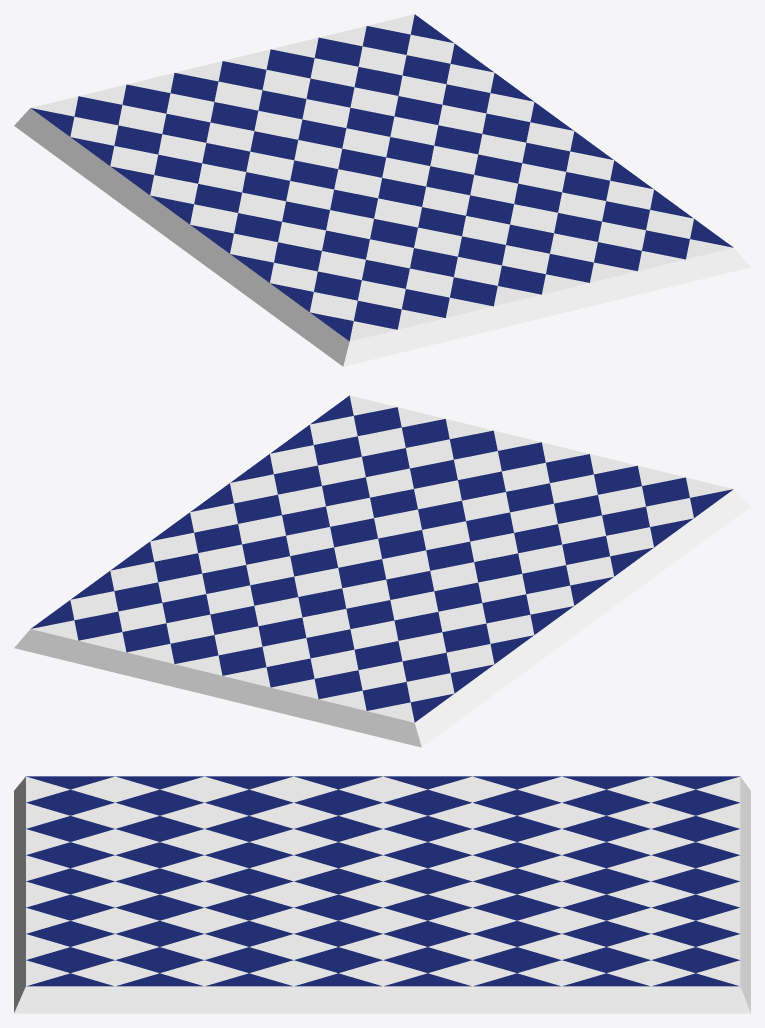
File: carddiamonds02.gltf
The picture shows the model from 3 angles, top to bottom: view 1: azimuth 30°, elevation 25°; view 2: azimuth 150°, elevation 25°; view 3: azimuth 270°, elevation 25°; orthographic projection. The views are drawn at different scales.
Parts seen in each view (by area): view 1: Cube; view 2: Cube; view 3: Cube.
Part boxes in pixels (left/top/right/bottom): Cube: left=14, top=14, right=750, bottom=366; Cube: left=14, top=395, right=750, bottom=747; Cube: left=14, top=776, right=750, bottom=1013.
Bounding box in the file's own units: 0.0635 × 0.00308 × 0.0888.
Materials: 1 (1 with a texture image).
